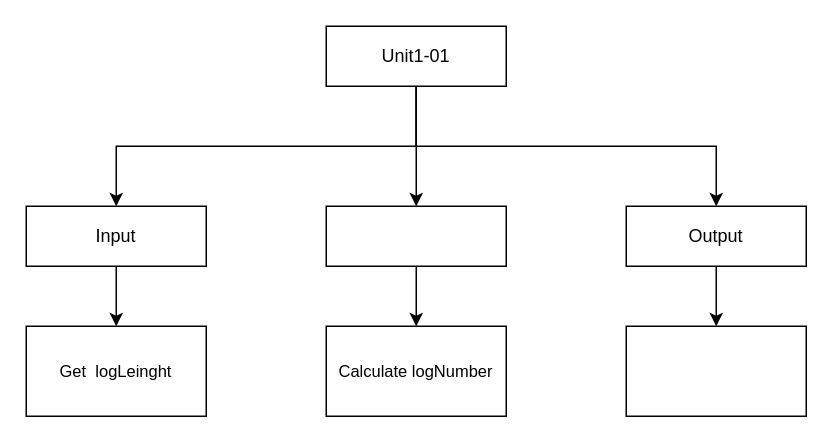
Image size: 833x443. Some labels were removed from this diagram. Each missing label, with the centre of its shape:
"Print logNumber" belongs at point (715, 370).
"Process" belongs at point (415, 235).
